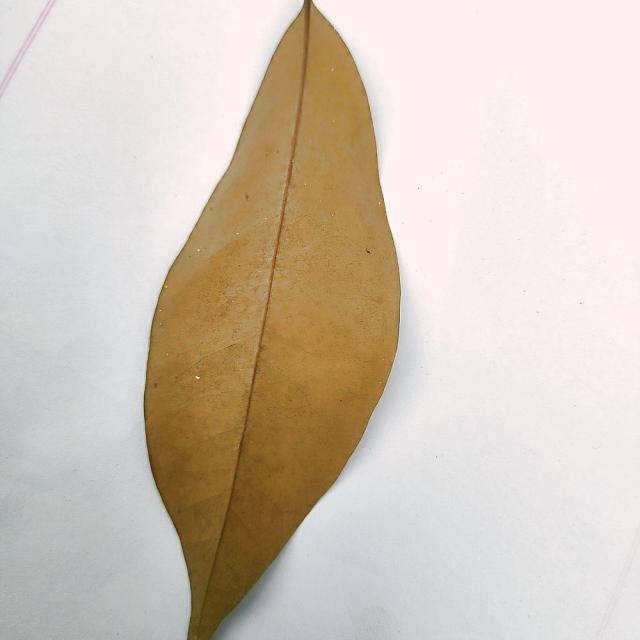Dry_Leaf-Lychee: (143, 0, 402, 639)
